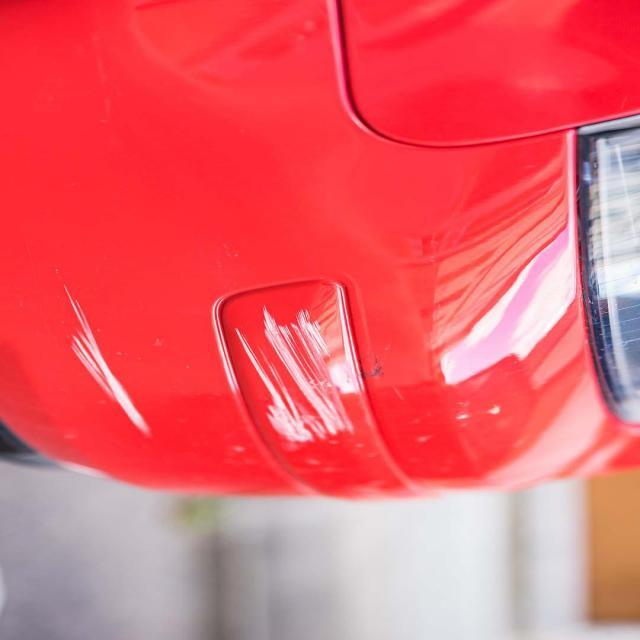scratch: (208, 297, 374, 449), (50, 281, 164, 438)
